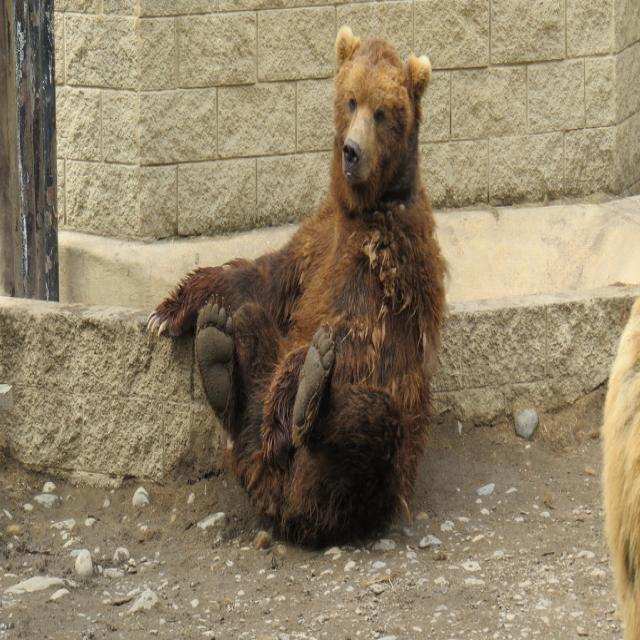Cheetahs: (146, 24, 452, 547)
